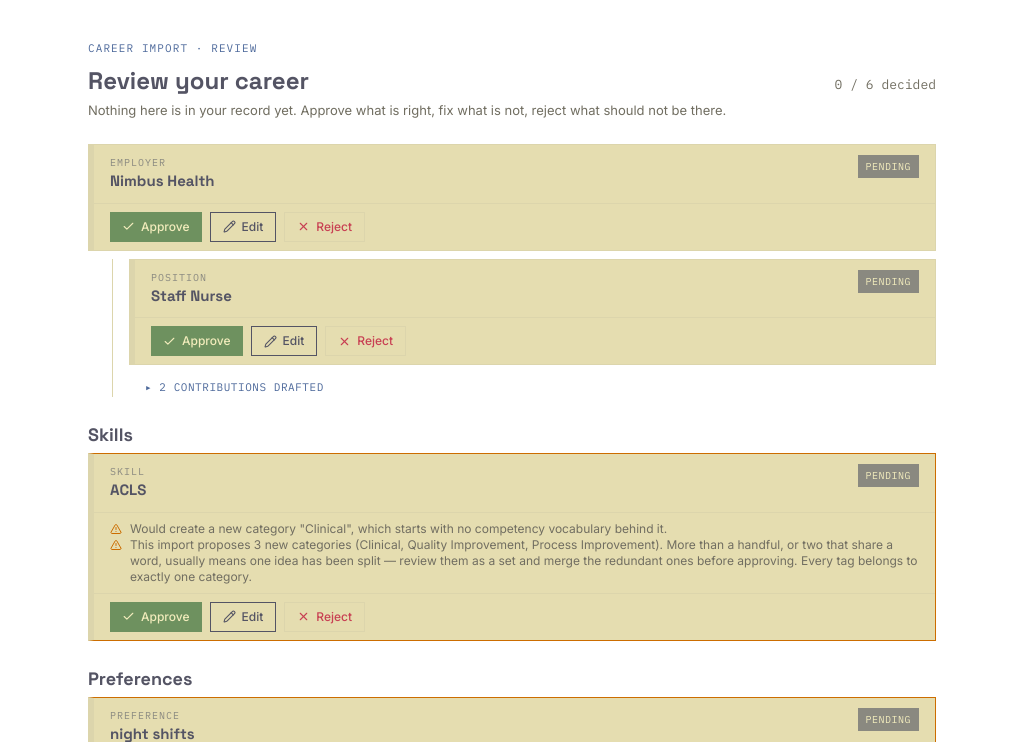
Test: EntityDraftReview › shows which dependency is missing when an approve is refused
Click the button "Approve" below "Staff Nurse".
click(197, 341)  # box [151,326,242,356]
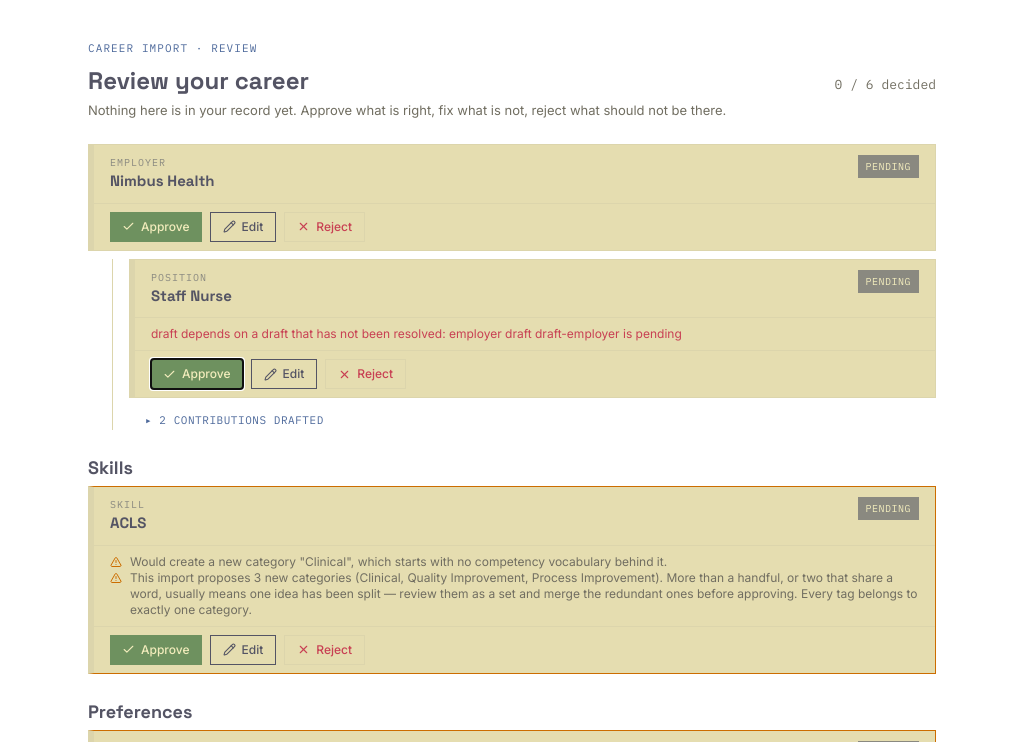
Now the text "employer draft draft-employer is pending" is shown, box [151,326,682,341]
